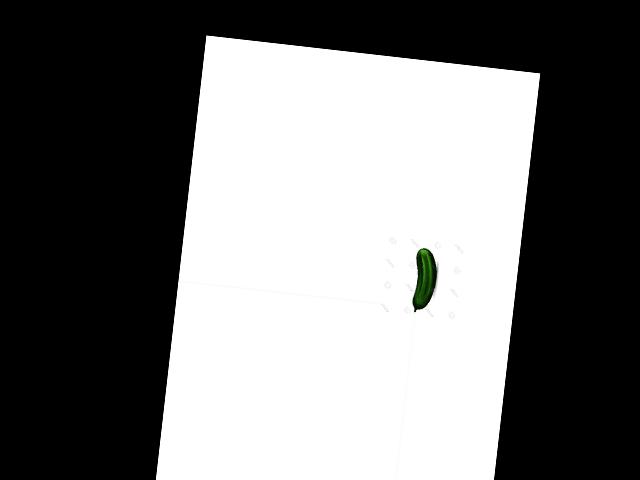cucumber: (410, 247, 439, 313)
